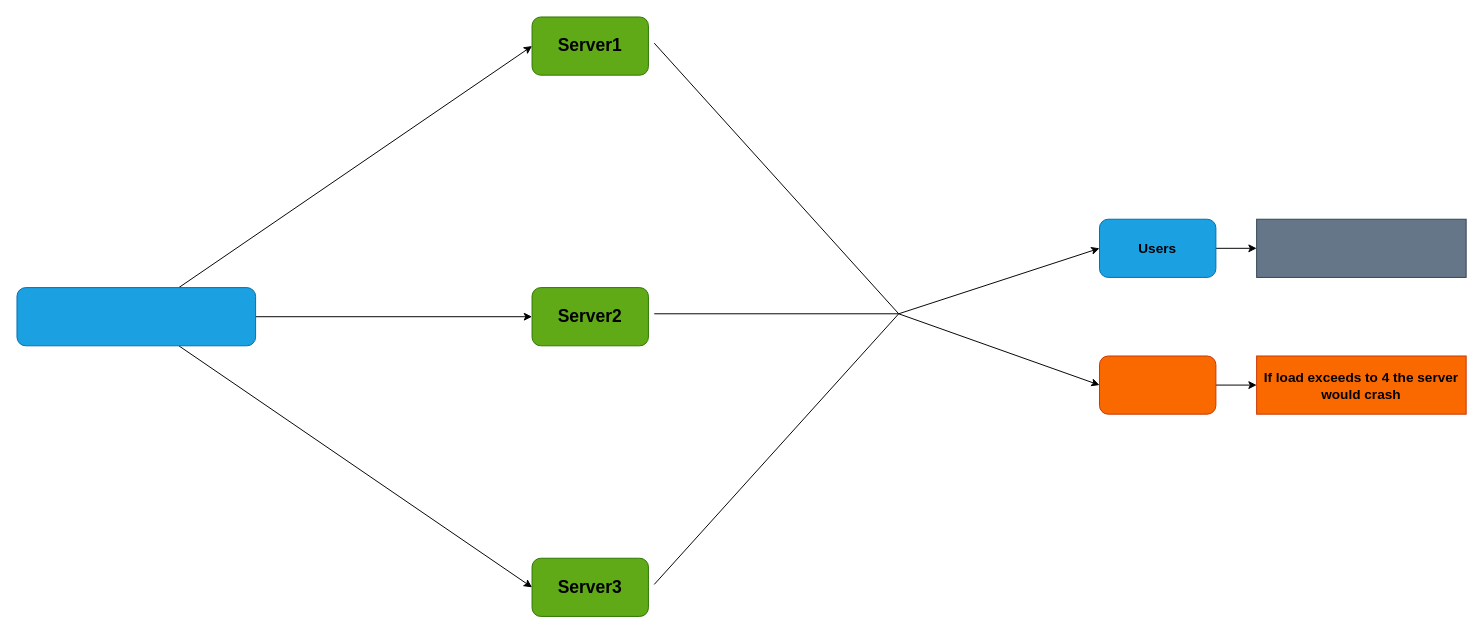
The diagram is 1483 pixels wide and 633 high, and some of its shapes have lost their labels. Here are the shapes that lost their labels. From the top down, the centre of each, then its label:
At pixel 1361 247: "List of users".
At pixel 136 316: "User Logins (Distributing users to any of these severs)".
At pixel 1157 384: "Load".
